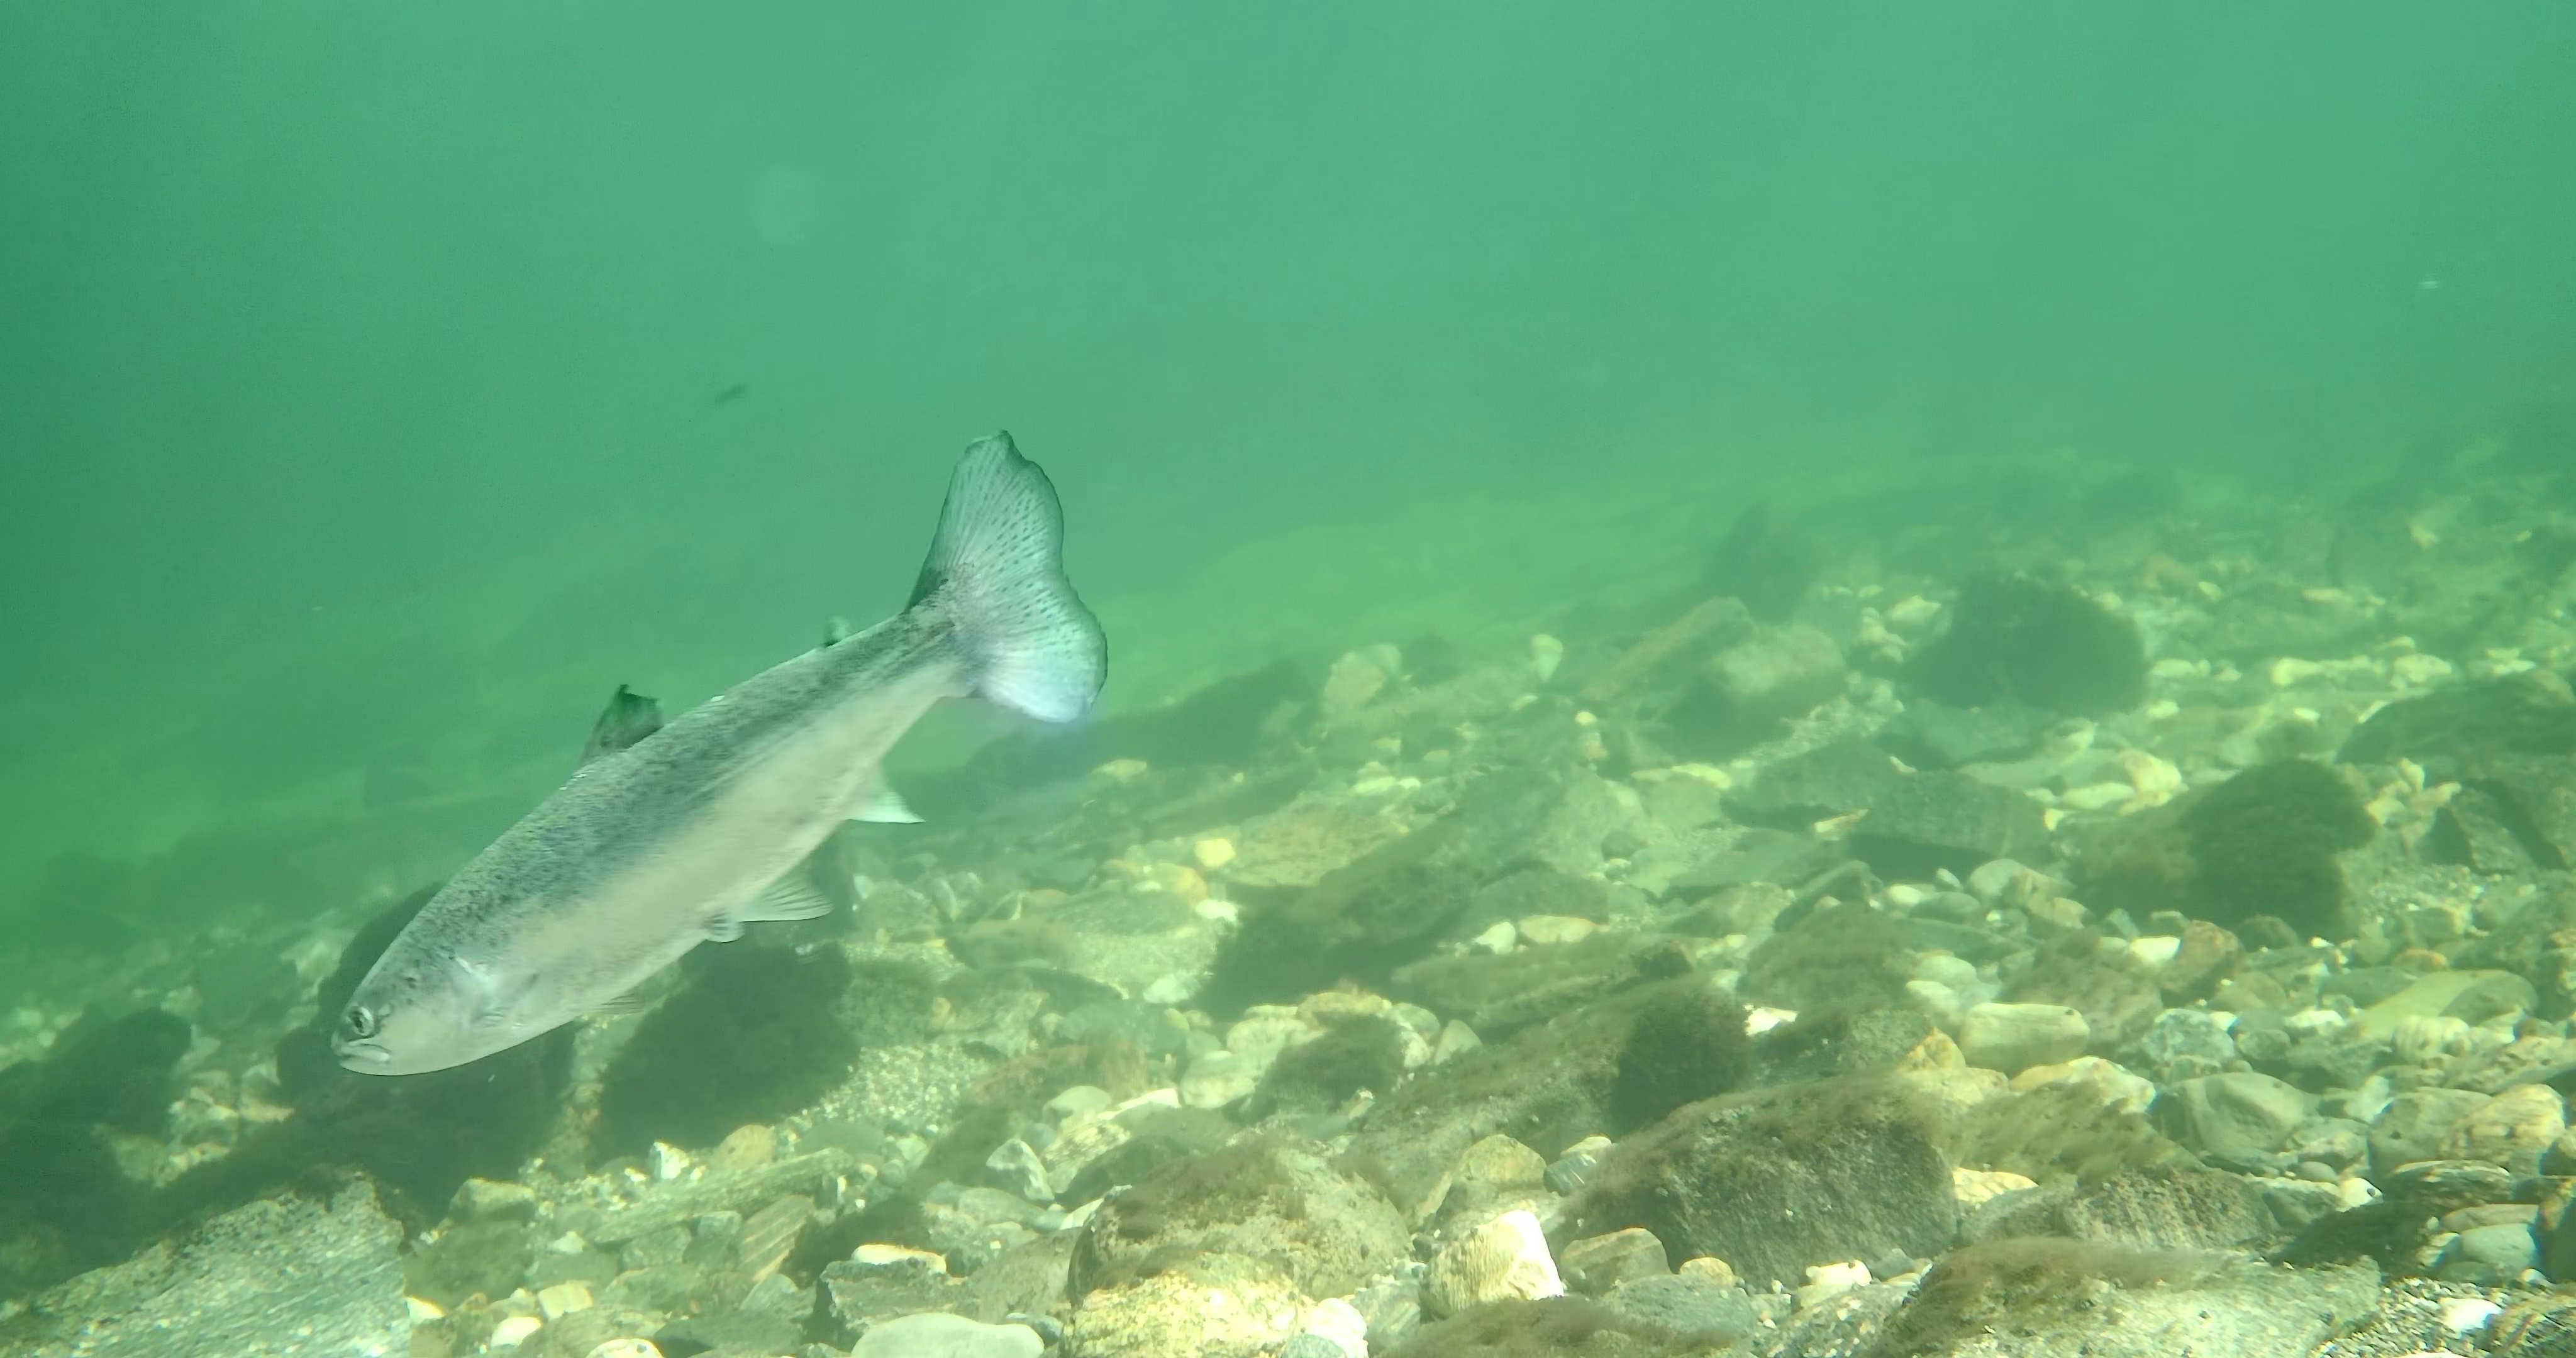salmon: (325, 428, 1113, 1080)
